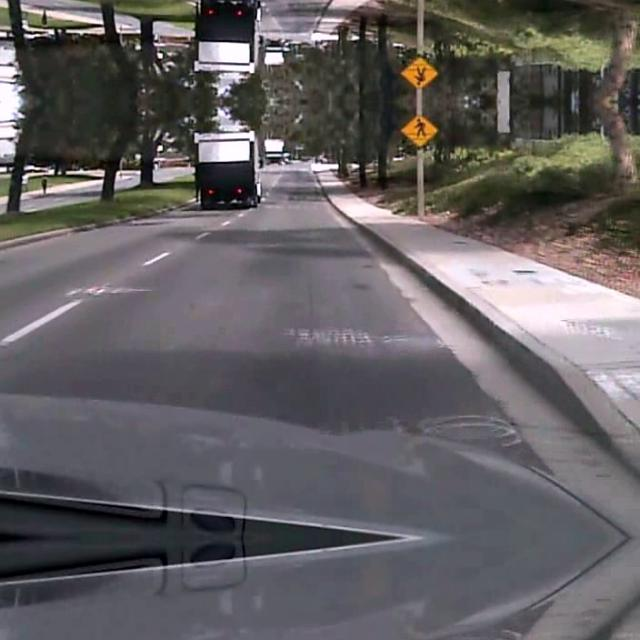pedestrianCrossing: (398, 112, 438, 144), (398, 58, 438, 90)
